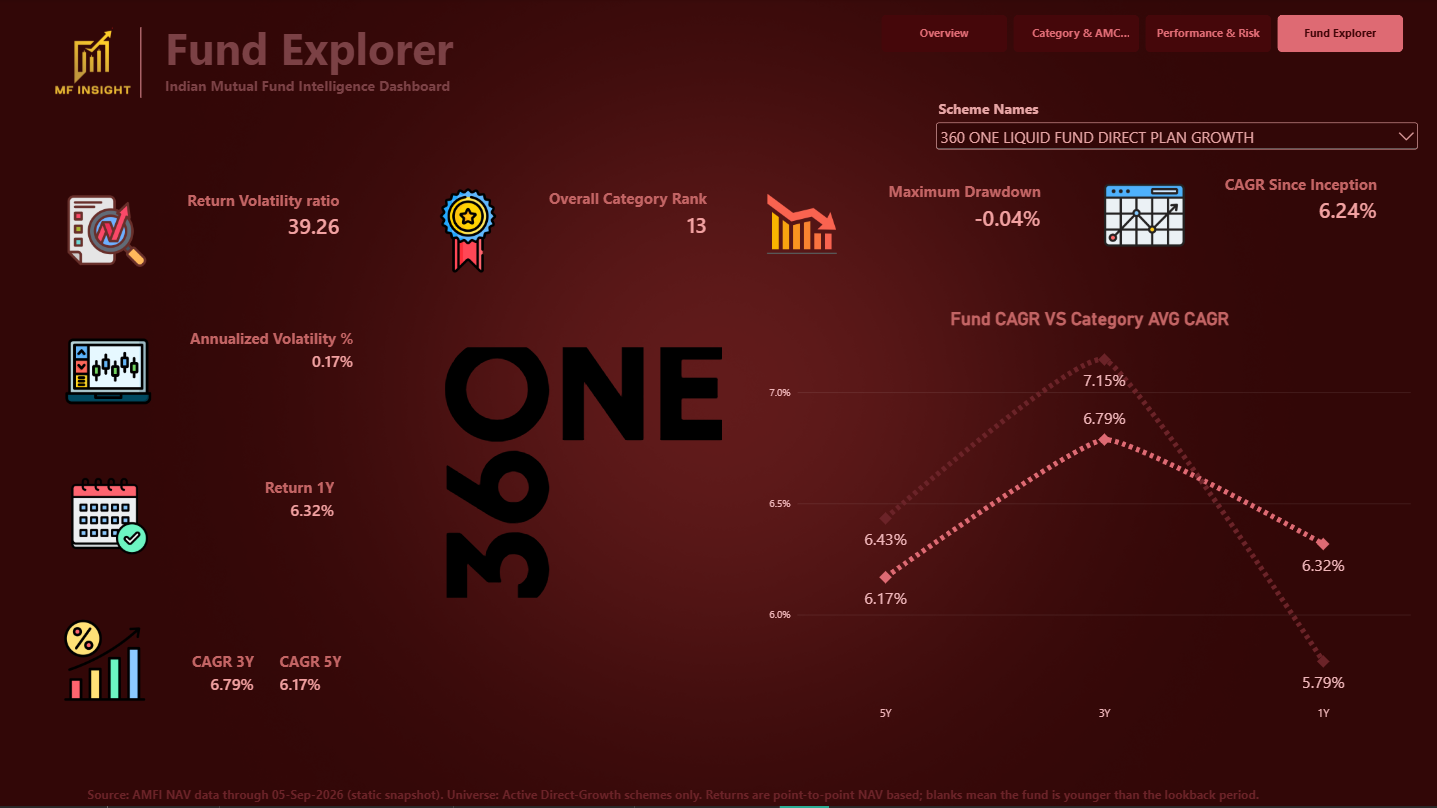

What the dashboard file says about the page in this screenshot:
{"tool":"powerbi","page":{"name":"Fund Explorer","canvas":[1920,1080],"ordinal":3},"visuals":[{"type":"cardVisual","fields":{"Data":["processed.CAGR 3Y Display","processed.CAGR 5Y Display"]},"box":[155.7,821,398.1,163],"z":0,"group":"g1"},{"type":"image","box":[50,38,146,94],"z":1000},{"type":"image","box":[82.5,829.2,113.2,111.1],"z":1000,"group":"g1"},{"type":"shape","box":[82,42,212,94],"z":2000},{"type":"textbox","box":[220,10,894,152],"z":3000},{"type":"cardVisual","fields":{"Data":["Avg(processed.cagr_since_inception)"]},"box":[1454.2,235.2,397.3,117.3],"z":4000},{"type":"cardVisual","fields":{"Data":["Sum(processed.annualized_volatility)"]},"box":[70.1,433.2,418.7,136.1],"z":5000},{"type":"cardVisual","fields":{"Data":["Min(amc_logo_mapping_result.logo_url)"]},"box":[435.2,468.2,544.6,334.2],"z":6000},{"type":"cardVisual","fields":{"Data":["processed.Return 1Y Display"]},"box":[76.2,617.5,387,156.4],"z":7000},{"type":"slicer","fields":{"Values":["processed.scheme_name"]},"box":[1243.2,135.8,652.5,72],"z":8000},{"type":"cardVisual","fields":{"Data":["Max(processed.maximum_drawdown)"]},"box":[996.3,235.2,407.5,140],"z":9000},{"type":"cardVisual","fields":{"Data":["Sum(processed.return_volatility_ratio)"]},"box":[71,244.9,397.3,140],"z":10000},{"type":"cardVisual","fields":{"Data":["Table.Overall Category Rank"]},"box":[551.6,244.9,407.5,137.9],"z":11000},{"type":"group","id":"g1","title":"Group 1","box":[82.5,821,471.3,163],"z":12000},{"type":"lineChart","title":"Fund CAGR VS Category AVG CAGR","fields":{"Y":["HorizonLookup.Fund CAGR by Horizon","HorizonLookup.Category Avg CAGR by Horizon"],"Category":["HorizonLookup.Horizon"]},"box":[1025.2,416.7,856,554.9],"z":13000},{"type":"textbox","box":[76,773,387,167],"z":14000},{"type":"textbox","box":[116.7,1053.3,1650,26],"z":14001},{"type":"pageNavigator","box":[1175,25,698,50],"z":14002}]}

Visuals, with their boxes in screenshot pixels (x1, y1, x2, y2), scaled from the page's 1920x1080 canvas onto the 1437x808 screenshot:
cardVisual - processed.CAGR 3Y Display x processed.CAGR 5Y Display: [left=117, top=614, right=414, bottom=736]
image: [left=37, top=28, right=147, bottom=99]
image: [left=62, top=620, right=146, bottom=703]
shape: [left=61, top=31, right=220, bottom=102]
textbox: [left=165, top=7, right=834, bottom=121]
cardVisual - Avg(processed.cagr_since_inception): [left=1088, top=176, right=1386, bottom=264]
cardVisual - Sum(processed.annualized_volatility): [left=52, top=324, right=366, bottom=426]
cardVisual - Min(amc_logo_mapping_result.logo_url): [left=326, top=350, right=733, bottom=600]
cardVisual - processed.Return 1Y Display: [left=57, top=462, right=347, bottom=579]
slicer - processed.scheme_name: [left=930, top=102, right=1419, bottom=155]
cardVisual - Max(processed.maximum_drawdown): [left=746, top=176, right=1051, bottom=281]
cardVisual - Sum(processed.return_volatility_ratio): [left=53, top=183, right=350, bottom=288]
cardVisual - Table.Overall Category Rank: [left=413, top=183, right=718, bottom=286]
"Group 1" group: [left=62, top=614, right=414, bottom=736]
"Fund CAGR VS Category AVG CAGR" lineChart: [left=767, top=312, right=1408, bottom=727]
textbox: [left=57, top=578, right=347, bottom=703]
textbox: [left=87, top=788, right=1322, bottom=807]
pageNavigator: [left=879, top=19, right=1402, bottom=56]
